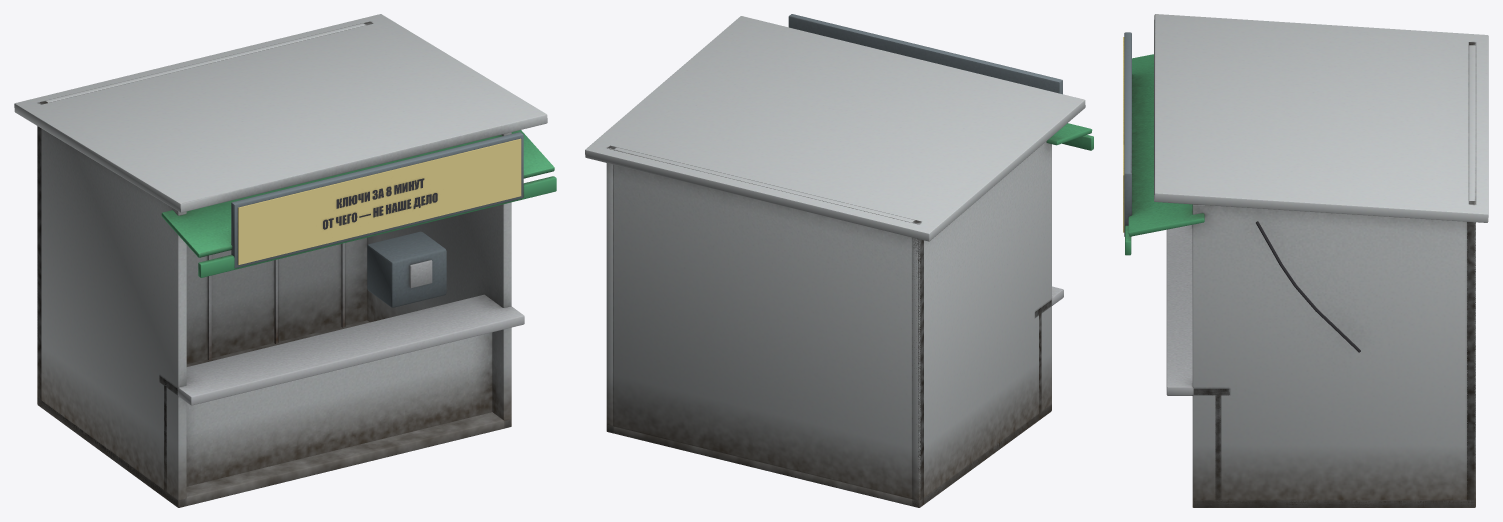
File: g67_pz_kiosk_keys.glb
The picture shows the model from 3 angles, left to right: view 1: azimuth 30°, elevation 25°; view 2: azimuth 150°, elevation 25°; view 3: azimuth 270°, elevation 25°; orthographic projection. The views are drawn at different scales.
Parts seen in each view (by area): view 1: g67_pz_kiosk_keys; view 2: g67_pz_kiosk_keys; view 3: g67_pz_kiosk_keys.
Part boxes in pixels (bbox=[...]): g67_pz_kiosk_keys: bbox=[14, 14, 556, 507]; g67_pz_kiosk_keys: bbox=[585, 14, 1093, 507]; g67_pz_kiosk_keys: bbox=[1123, 14, 1488, 507].
Bounding box in the file's own units: 3.36 × 2.78 × 2.84.
Materials: 1 (1 with a texture image).
